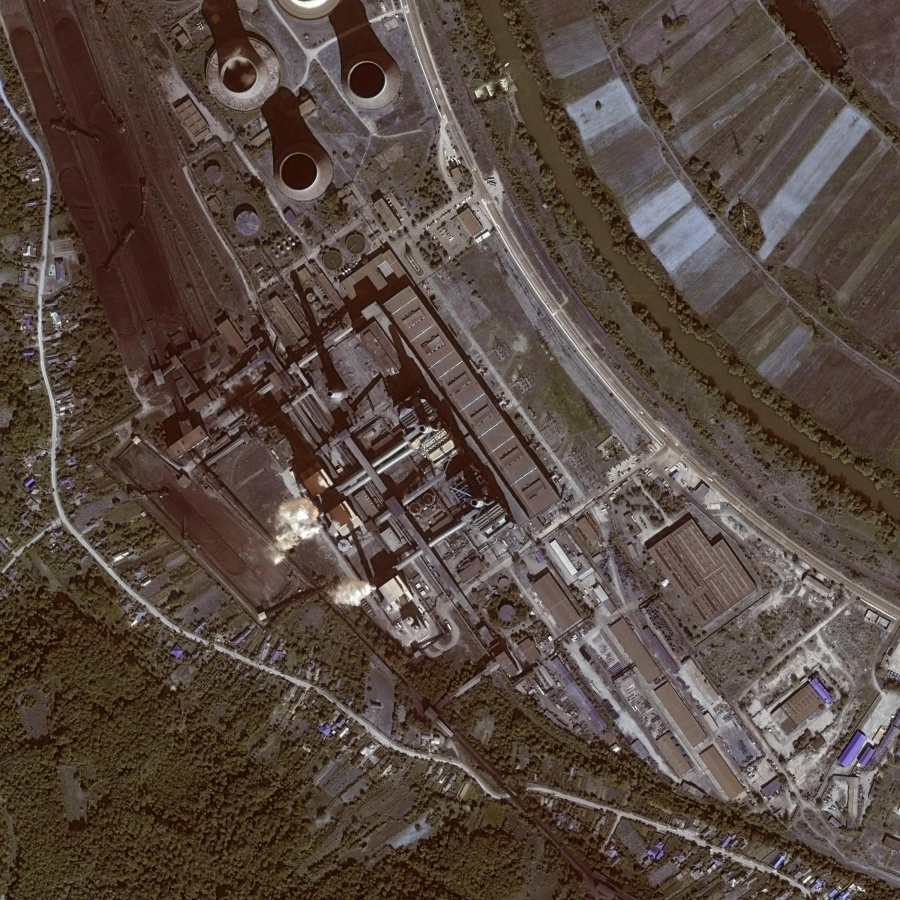PowerPlant: (159, 406, 374, 635)
